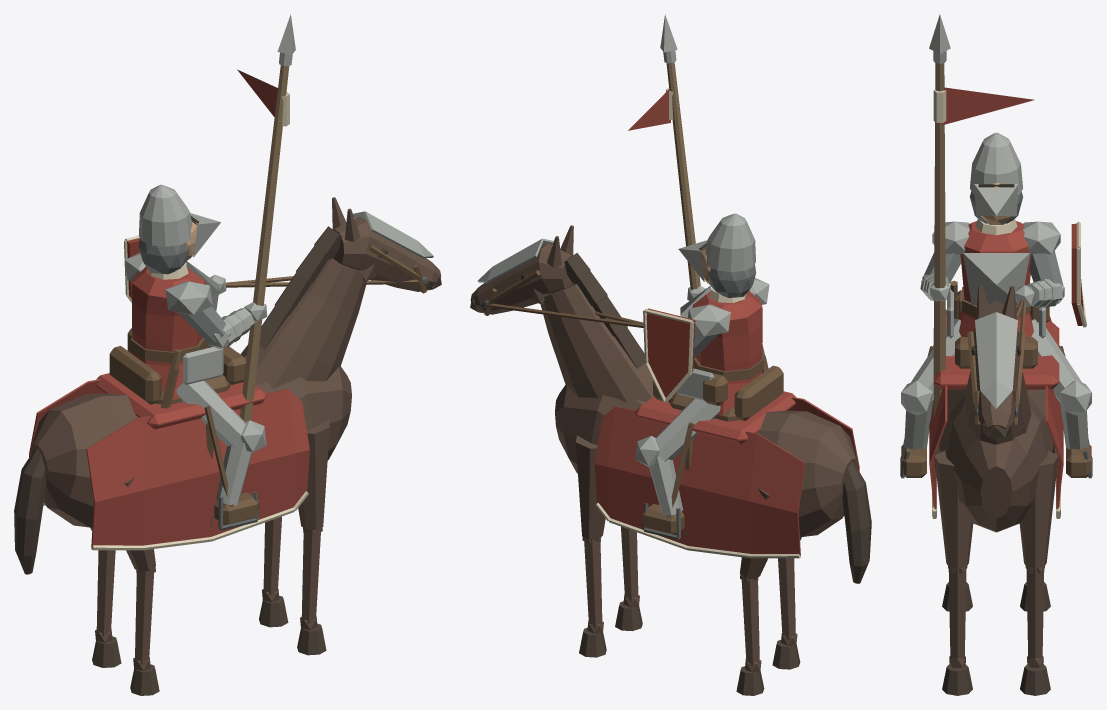
Rendered from cavalry_heavy.glb.
3 renders of one model, left to right at view 1: azimuth 30°, elevation 25°; view 2: azimuth 150°, elevation 25°; view 3: azimuth 270°, elevation 25°, orthographic. The views are drawn at different scales.
Parts seen in each view (by area): view 1: cavalry_heavy_horse, cavalry_heavy_team_cloth, cavalry_heavy_steel, cavalry_heavy_mane, cavalry_heavy_leather, cavalry_heavy_oak, cavalry_heavy_mail, cavalry_heavy_linen; view 2: cavalry_heavy_horse, cavalry_heavy_team_cloth, cavalry_heavy_steel, cavalry_heavy_mane, cavalry_heavy_leather, cavalry_heavy_team_paint, cavalry_heavy_linen, cavalry_heavy_oak, cavalry_heavy_mail; view 3: cavalry_heavy_horse, cavalry_heavy_steel, cavalry_heavy_team_cloth, cavalry_heavy_leather, cavalry_heavy_oak, cavalry_heavy_mane, cavalry_heavy_linen, cavalry_heavy_mail, cavalry_heavy_team_paint, cavalry_heavy_iron.
Boxes of the visible parts, bbox=[...] form: cavalry_heavy_horse: bbox=[31, 197, 441, 670]; cavalry_heavy_team_cloth: bbox=[29, 69, 309, 547]; cavalry_heavy_steel: bbox=[124, 14, 433, 505]; cavalry_heavy_mane: bbox=[14, 226, 441, 695]; cavalry_heavy_leather: bbox=[109, 244, 426, 527]; cavalry_heavy_oak: bbox=[240, 65, 289, 422]; cavalry_heavy_mail: bbox=[138, 238, 225, 342]; cavalry_heavy_linen: bbox=[43, 92, 309, 550]; cavalry_heavy_horse: bbox=[470, 225, 857, 672]; cavalry_heavy_team_cloth: bbox=[594, 88, 859, 555]; cavalry_heavy_steel: bbox=[478, 14, 769, 516]; cavalry_heavy_mane: bbox=[470, 253, 871, 695]; cavalry_heavy_leather: bbox=[484, 270, 783, 536]; cavalry_heavy_team_paint: bbox=[646, 308, 695, 397]; cavalry_heavy_linen: bbox=[595, 87, 800, 558]; cavalry_heavy_oak: bbox=[666, 62, 700, 289]; cavalry_heavy_mail: bbox=[693, 264, 756, 358]; cavalry_heavy_horse: bbox=[934, 286, 1058, 667]; cavalry_heavy_steel: bbox=[901, 14, 1091, 449]; cavalry_heavy_team_cloth: bbox=[929, 87, 1063, 509]; cavalry_heavy_leather: bbox=[901, 287, 1091, 477]; cavalry_heavy_oak: bbox=[933, 63, 946, 453]; cavalry_heavy_mane: bbox=[942, 300, 1050, 695]; cavalry_heavy_linen: bbox=[932, 89, 1086, 518]; cavalry_heavy_mail: bbox=[924, 191, 1063, 285]; cavalry_heavy_team_paint: bbox=[1071, 223, 1083, 325]; cavalry_heavy_iron: bbox=[900, 407, 1092, 478].
Bounding box in the file's own units: 2.81 × 4.12 × 1.09.
